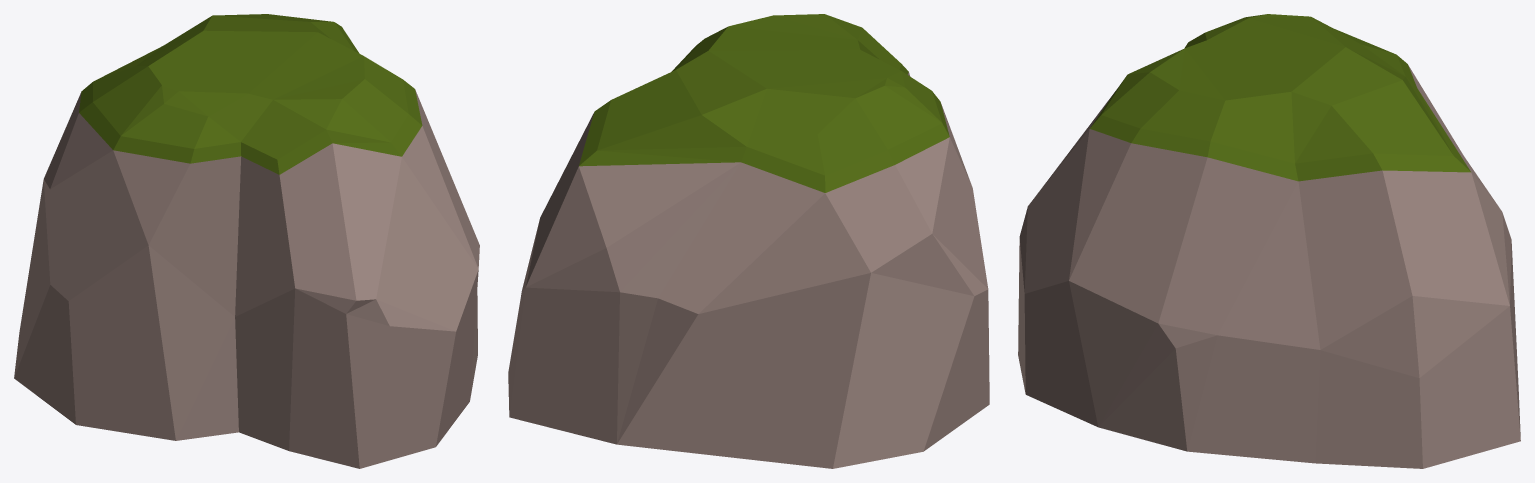
The model's file is Rock_8.fbx.
The picture shows the model from 3 angles, left to right: view 1: azimuth 30°, elevation 25°; view 2: azimuth 150°, elevation 25°; view 3: azimuth 270°, elevation 25°; orthographic projection.
Visible parts, largest first — view 1: Rock_8; view 2: Rock_8; view 3: Rock_8.
Part boxes in pixels (x1,y1,x2,y2): Rock_8: [14, 14, 479, 468]; Rock_8: [508, 14, 989, 468]; Rock_8: [1018, 14, 1520, 468].
Bounding box in the file's own units: 6.22 × 4.64 × 6.71.
